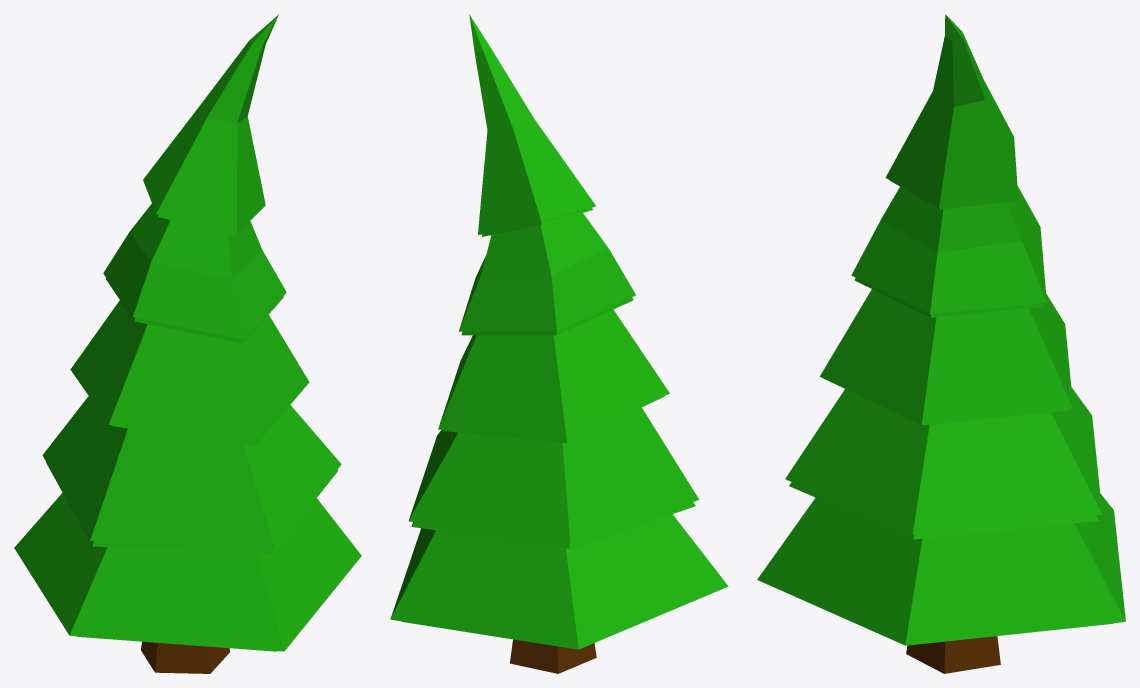
File: Low-Poly_Models 2.glb
3 renders of one model, left to right at view 1: azimuth 30°, elevation 25°; view 2: azimuth 150°, elevation 25°; view 3: azimuth 270°, elevation 25°, orthographic. The views are drawn at different scales.
Visible parts, largest first — view 1: Cylinder.001; view 2: Cylinder.001; view 3: Cylinder.001.
Boxes of the visible parts, x1,y1,x2,y2 form: Cylinder.001: (14, 14, 361, 673); Cylinder.001: (390, 14, 728, 673); Cylinder.001: (757, 14, 1125, 673).
Bounding box in the file's own units: 2.05 × 4.07 × 1.98.
